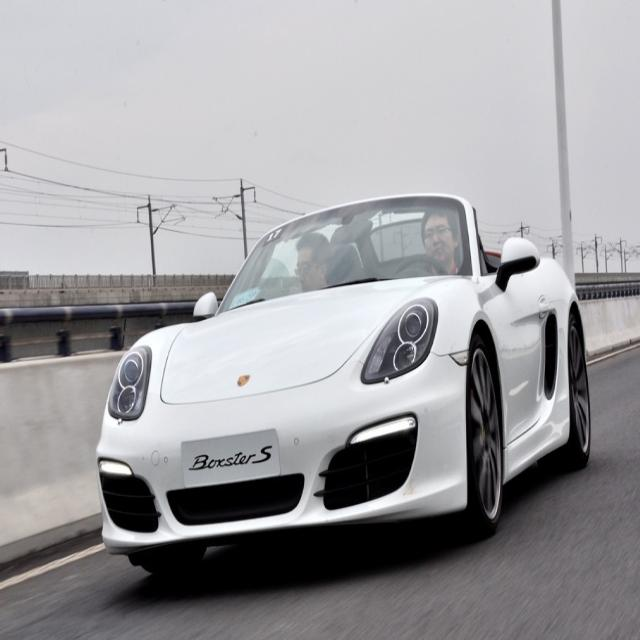front_bumper: (92, 344, 473, 555)
front_glass: (218, 194, 471, 316)
front_left_side_door: (476, 222, 554, 457)
front_left_side_light: (360, 294, 440, 386)
front_left_side_mirror: (491, 233, 541, 296)
front_right_side_light: (103, 338, 154, 430)
front_right_side_mirror: (193, 285, 220, 323)
wheel: (451, 340, 503, 546), (554, 312, 590, 471)
